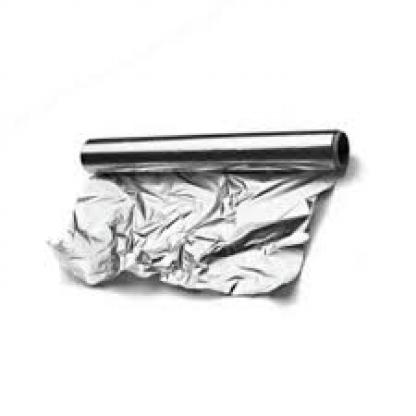Compsot: (44, 128, 348, 298)
